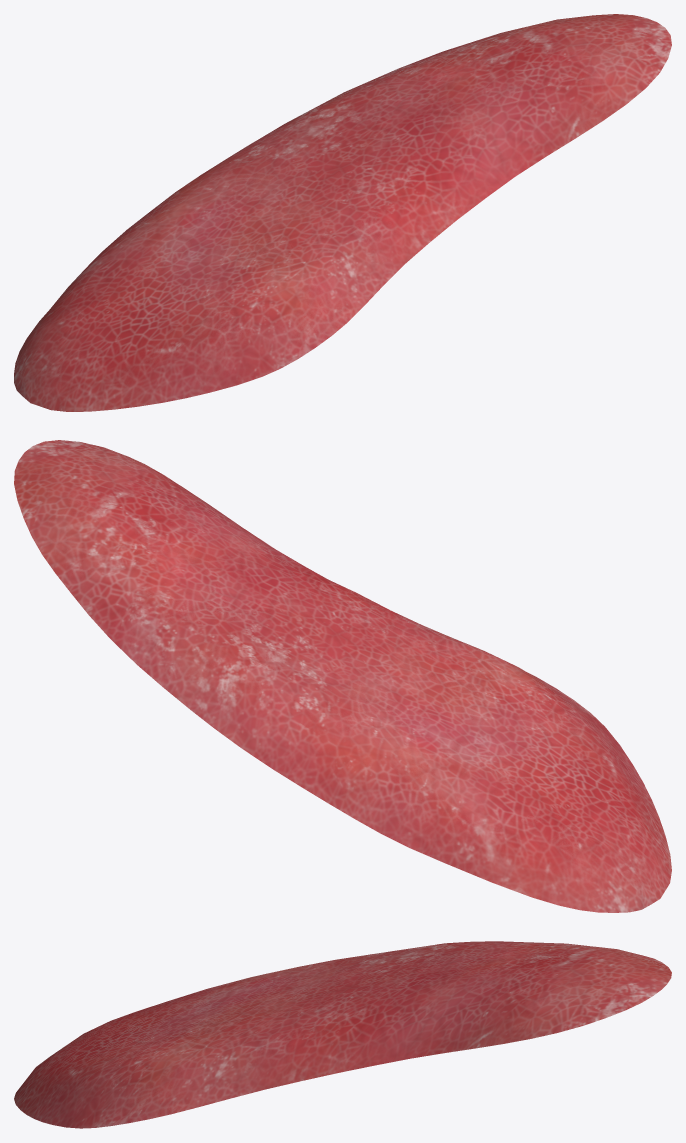
Rendered from wall.fbx.
3 views of the same model, one above another, from view 1: azimuth 30°, elevation 25°; view 2: azimuth 150°, elevation 25°; view 3: azimuth 330°, elevation 25° (orthographic). The views are drawn at different scales.
Parts seen in each view (by area): view 1: ground_005__44_; view 2: ground_005__44_; view 3: ground_005__44_.
Part boxes in pixels (bbox=[...]): ground_005__44_: bbox=[14, 14, 671, 411]; ground_005__44_: bbox=[14, 440, 671, 912]; ground_005__44_: bbox=[14, 941, 671, 1128].
Size of the model in its own units: 7245 by 2853 by 3656.
